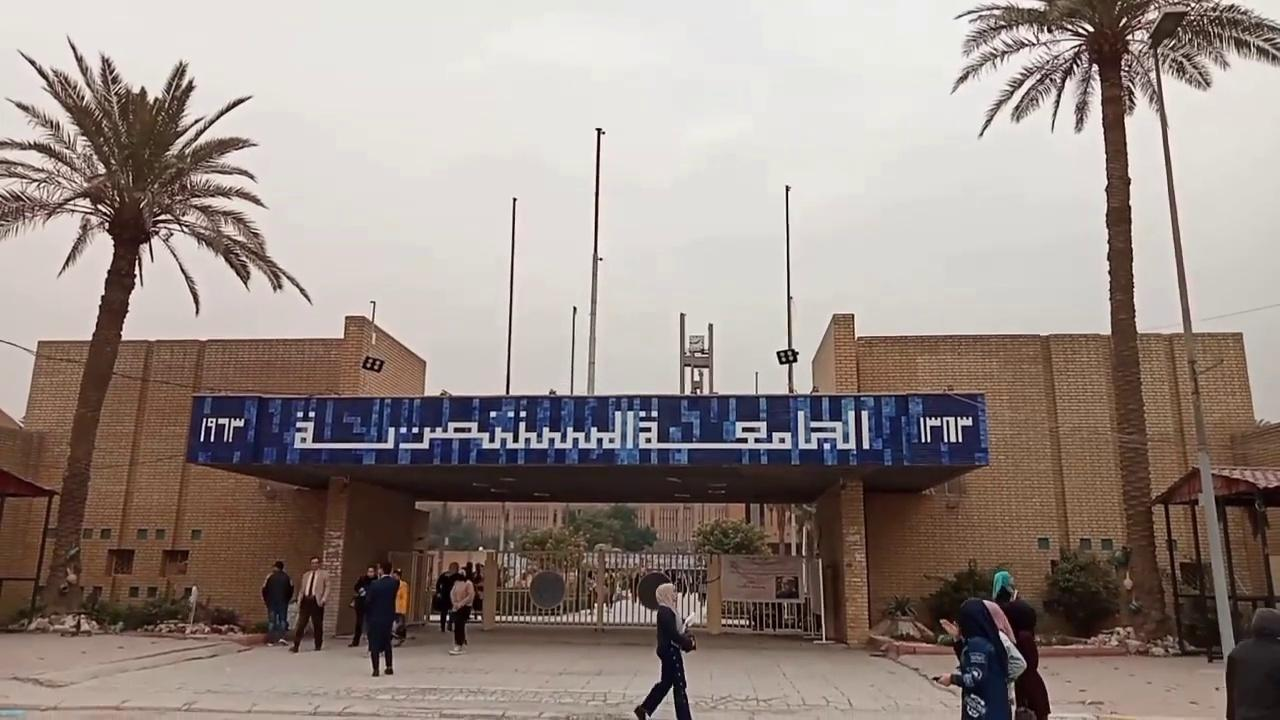person: (935, 597, 1027, 719), (990, 570, 1050, 719), (633, 580, 697, 719), (1225, 606, 1279, 719), (362, 560, 400, 676), (288, 555, 331, 652), (261, 560, 293, 645), (347, 563, 378, 647), (447, 568, 475, 654), (434, 561, 462, 632), (392, 567, 409, 646)
tree: (948, 0, 1278, 647), (0, 32, 312, 621), (688, 515, 771, 557)
